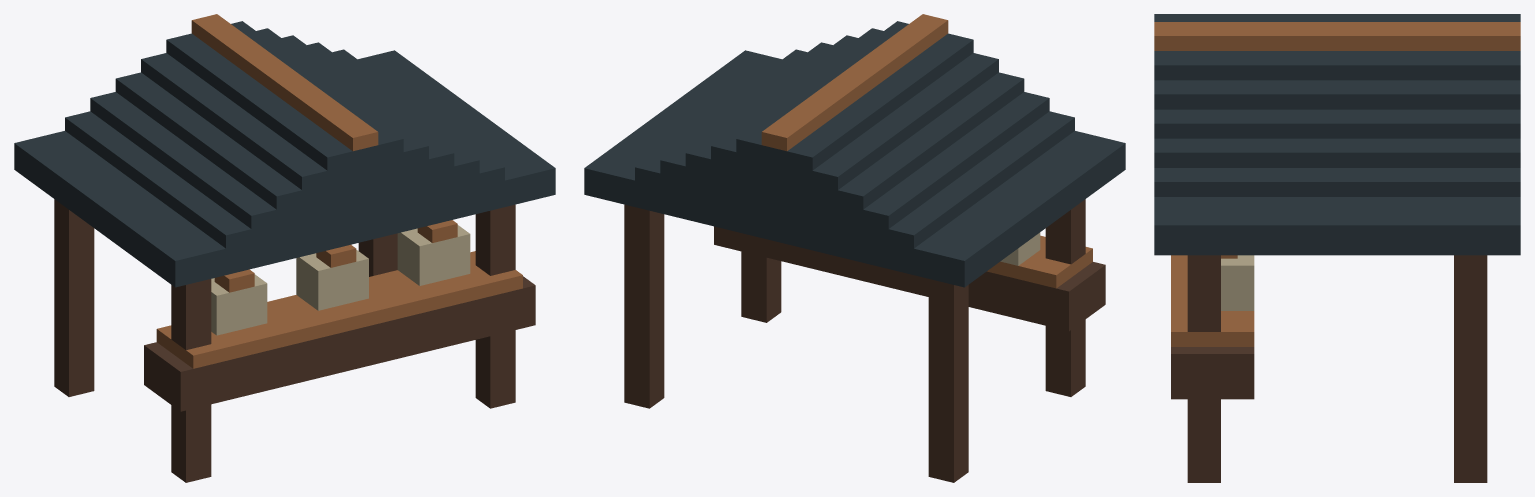
Rendered from market.glb.
3 renders of one model, left to right at view 1: azimuth 30°, elevation 25°; view 2: azimuth 150°, elevation 25°; view 3: azimuth 270°, elevation 25°, orthographic. The views are drawn at different scales.
Visible parts, largest first — view 1: Shell; view 2: Shell; view 3: Shell.
Boxes of the visible parts, x1,y1,x2,y2 form: Shell: (14,14,555,482); Shell: (584,14,1125,482); Shell: (1154,14,1520,482).
Bounding box in the file's own units: 3.75 × 3 × 2.75.
